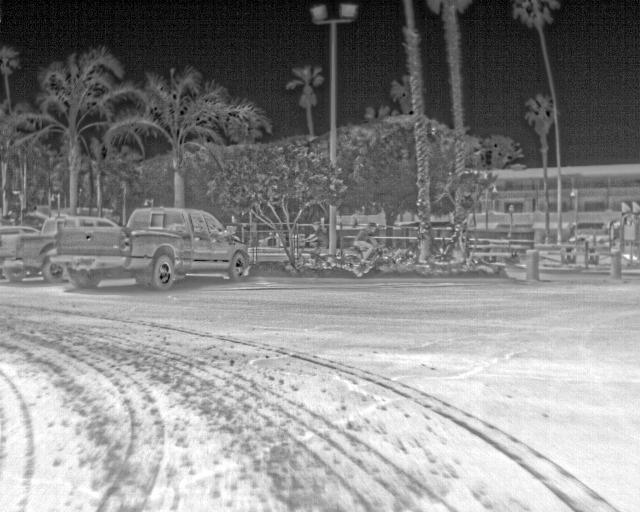bicycle: (46, 205, 247, 292), (0, 213, 122, 284)
empty: (350, 221, 380, 263)
